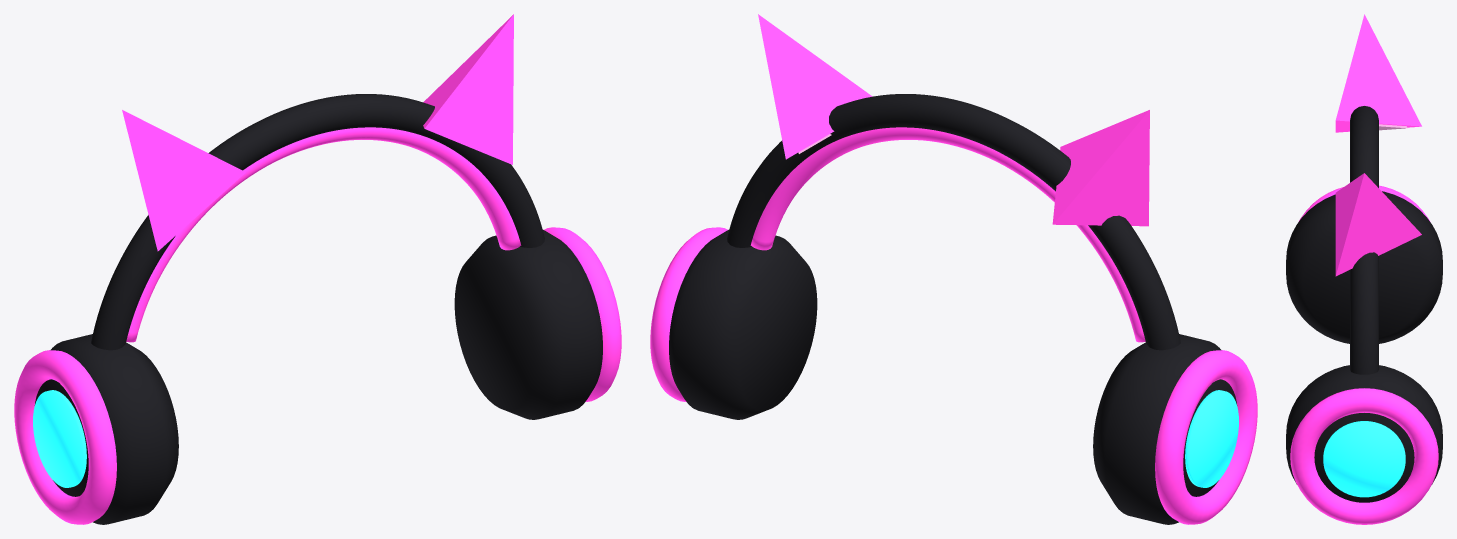
3 renders of one model, left to right at view 1: azimuth 30°, elevation 25°; view 2: azimuth 150°, elevation 25°; view 3: azimuth 270°, elevation 25°, orthographic. The views are drawn at different scales.
Parts seen in each view (by area): view 1: part_7, part_0, part_2, part_3, part_10, part_5, part_1, part_4, part_8; view 2: part_7, part_0, part_2, part_3, part_5, part_10, part_1, part_4, part_8; view 3: part_2, part_8, part_7, part_0, part_10, part_9, part_5, part_3.
Part boxes in pixels (x1=…): part_7: x1=454, y1=230, x2=602, y2=419; part_0: x1=91, y1=94, x2=544, y2=350; part_2: x1=34, y1=334, x2=178, y2=524; part_3: x1=14, y1=350, x2=116, y2=524; part_10: x1=423, y1=14, x2=513, y2=164; part_5: x1=122, y1=110, x2=245, y2=251; part_1: x1=126, y1=127, x2=521, y2=342; part_4: x1=33, y1=390, x2=86, y2=487; part_8: x1=544, y1=227, x2=621, y2=401; part_7: x1=669, y1=230, x2=817, y2=419; part_0: x1=727, y1=94, x2=1180, y2=350; part_2: x1=1093, y1=334, x2=1237, y2=524; part_3: x1=1155, y1=350, x2=1257, y2=524; part_5: x1=1052, y1=110, x2=1149, y2=226; part_10: x1=758, y1=14, x2=872, y2=159; part_1: x1=750, y1=127, x2=1145, y2=342; part_4: x1=1185, y1=390, x2=1238, y2=487; part_8: x1=650, y1=227, x2=727, y2=401; part_2: x1=1286, y1=191, x2=1442, y2=343; part_8: x1=1290, y1=388, x2=1438, y2=524; part_7: x1=1286, y1=365, x2=1442, y2=502; part_0: x1=1350, y1=106, x2=1378, y2=374; part_10: x1=1335, y1=173, x2=1421, y2=276; part_9: x1=1323, y1=421, x2=1405, y2=497; part_5: x1=1335, y1=14, x2=1421, y2=132; part_3: x1=1298, y1=185, x2=1430, y2=221.
Size of the model in its own units: 2.46 by 1.78 by 0.76.
